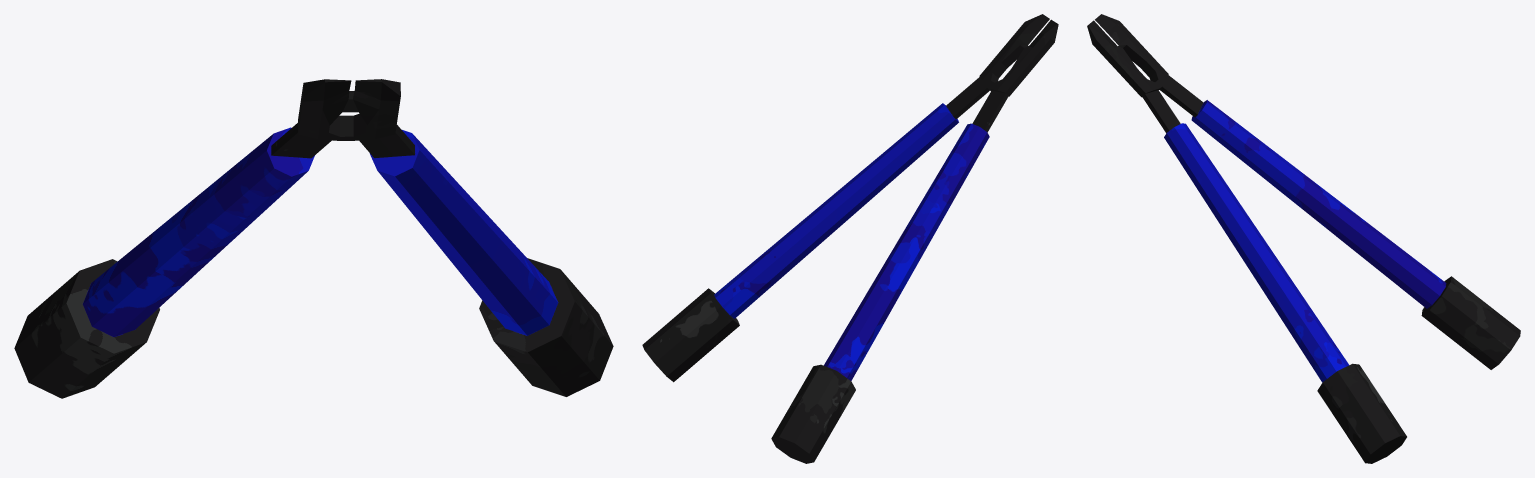
File: Bolt Cutters Export.glb
The picture shows the model from 3 angles, left to right: view 1: azimuth 30°, elevation 25°; view 2: azimuth 150°, elevation 25°; view 3: azimuth 270°, elevation 25°; orthographic projection. The views are drawn at different scales.
Visible parts, largest first — view 1: Cube.011; view 2: Cube.011; view 3: Cube.011.
Part boxes in pixels (x1,y1,x2,y2): Cube.011: [14, 79, 613, 398]; Cube.011: [642, 14, 1058, 463]; Cube.011: [1087, 14, 1520, 463].
Bounding box in the file's own units: 2.15 × 2.33 × 2.82.
Materials: 1 (1 with a texture image).
